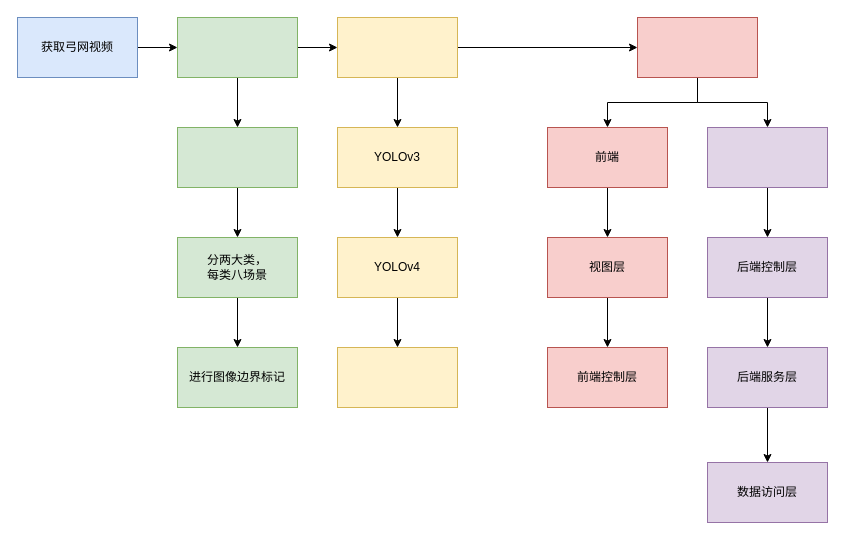
Some shapes in this 845 by 540 pixel diagram are drawn without their labels. The shapes that lost their labels are listed below. From the top down, each one's box as (x1, y1, x2, y2) in pixels, then its label:
(176, 16, 298, 78): 数据预处理
(336, 16, 458, 78): 弓网燃弧故障识别
(636, 16, 758, 78): 搭建弓网燃弧识别 系统
(176, 126, 298, 188): 截取带火花的帧
(706, 126, 828, 188): 后端
(336, 346, 458, 408): YOLOv5
